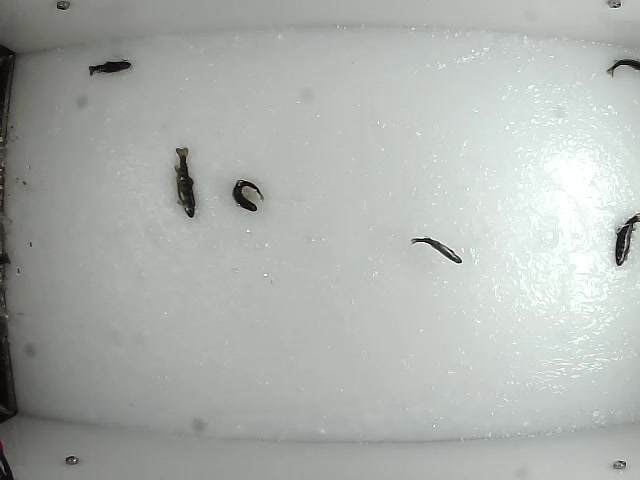fish: (170, 146, 195, 219), (612, 209, 640, 268), (408, 236, 463, 265), (227, 179, 265, 214), (86, 59, 132, 78)
